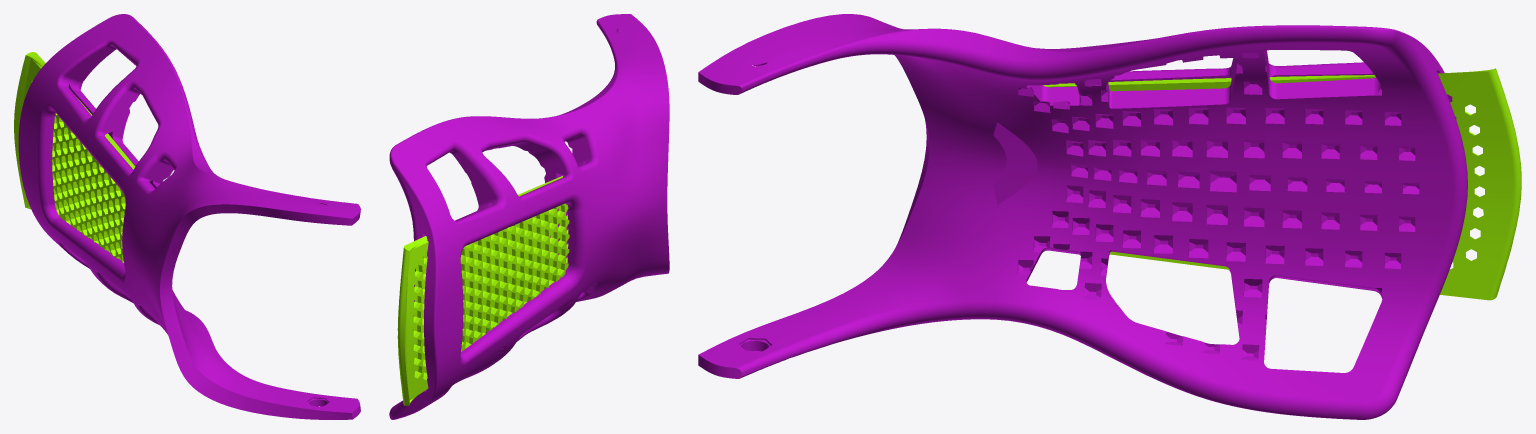
The model's file is snowboard-bindings.glb.
The picture shows the model from 3 angles, left to right: view 1: azimuth 30°, elevation 25°; view 2: azimuth 150°, elevation 25°; view 3: azimuth 270°, elevation 25°; orthographic projection. The views are drawn at different scales.
Visible parts, largest first — view 1: Component23:1, Component24:1; view 2: Component23:1, Component24:1; view 3: Component23:1, Component24:1.
Boxes of the visible parts, x1=… form: Component23:1: x1=18, y1=14, x2=360, y2=419; Component24:1: x1=14, y1=52, x2=135, y2=262; Component23:1: x1=389, y1=14, x2=669, y2=419; Component24:1: x1=397, y1=176, x2=569, y2=405; Component23:1: x1=698, y1=14, x2=1467, y2=419; Component24:1: x1=1043, y1=68, x2=1521, y2=300.
Size of the model in its own units: 0.0761 by 0.1462 by 0.2779.
